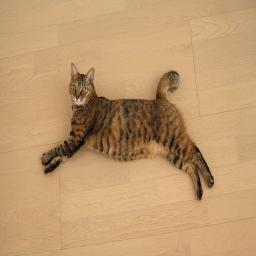catnose: (75, 94, 80, 101)
